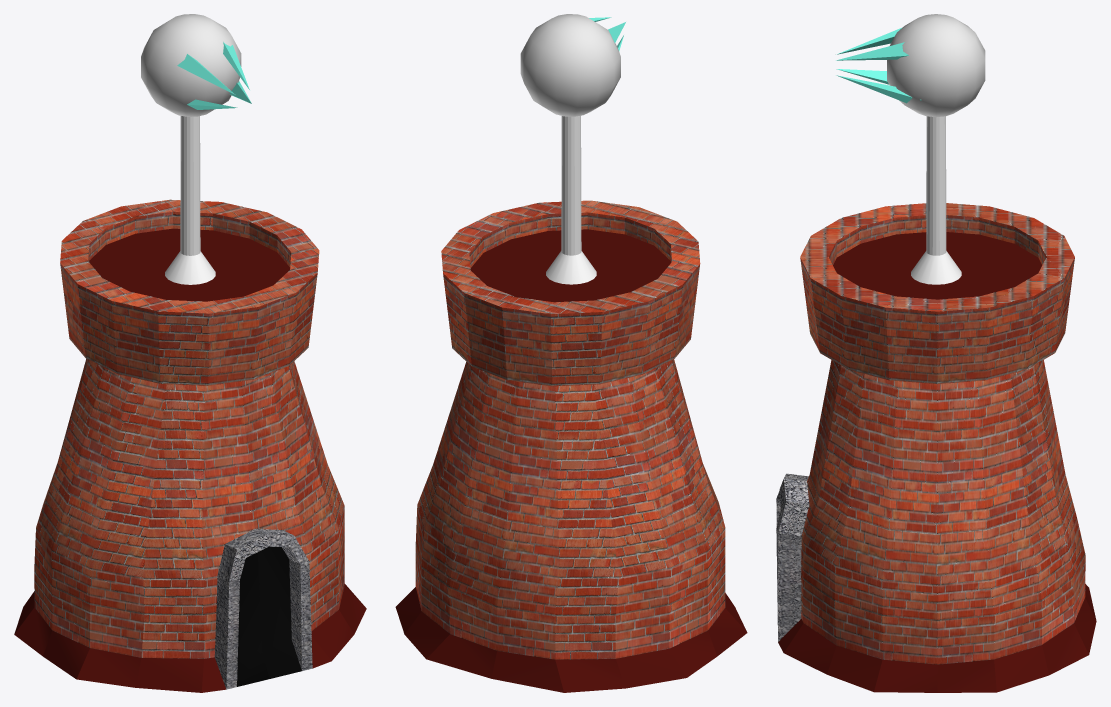
The model's file is 二階塔電漿.FBX.
The picture shows the model from 3 angles, left to right: view 1: azimuth 30°, elevation 25°; view 2: azimuth 150°, elevation 25°; view 3: azimuth 270°, elevation 25°; orthographic projection.
Parts seen in each view (by area): view 1: 基礎塔, Sphere001, 電漿柱子, Box003; view 2: 基礎塔, Sphere001, 電漿柱子; view 3: 基礎塔, Sphere001, 電漿柱子, Box003.
Part boxes in pixels (left/top/right/bottom): 基礎塔: left=14, top=199, right=366, bottom=692; Sphere001: left=141, top=14, right=241, bottom=116; 電漿柱子: left=165, top=116, right=215, bottom=284; Box003: left=177, top=42, right=251, bottom=109; 基礎塔: left=395, top=200, right=747, bottom=692; Sphere001: left=520, top=14, right=620, bottom=116; 電漿柱子: left=546, top=115, right=596, bottom=284; 基礎塔: left=776, top=203, right=1096, bottom=692; Sphere001: left=887, top=14, right=985, bottom=117; 電漿柱子: left=911, top=116, right=961, bottom=284; Box003: left=836, top=27, right=921, bottom=103.
Size of the model in its own units: 34.98 by 68.57 by 33.
6 materials, 2 textured.
